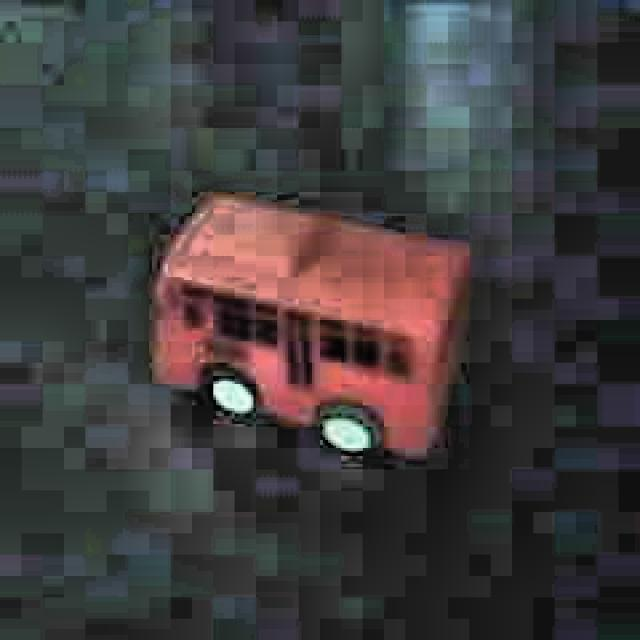bus: (138, 188, 475, 472)
